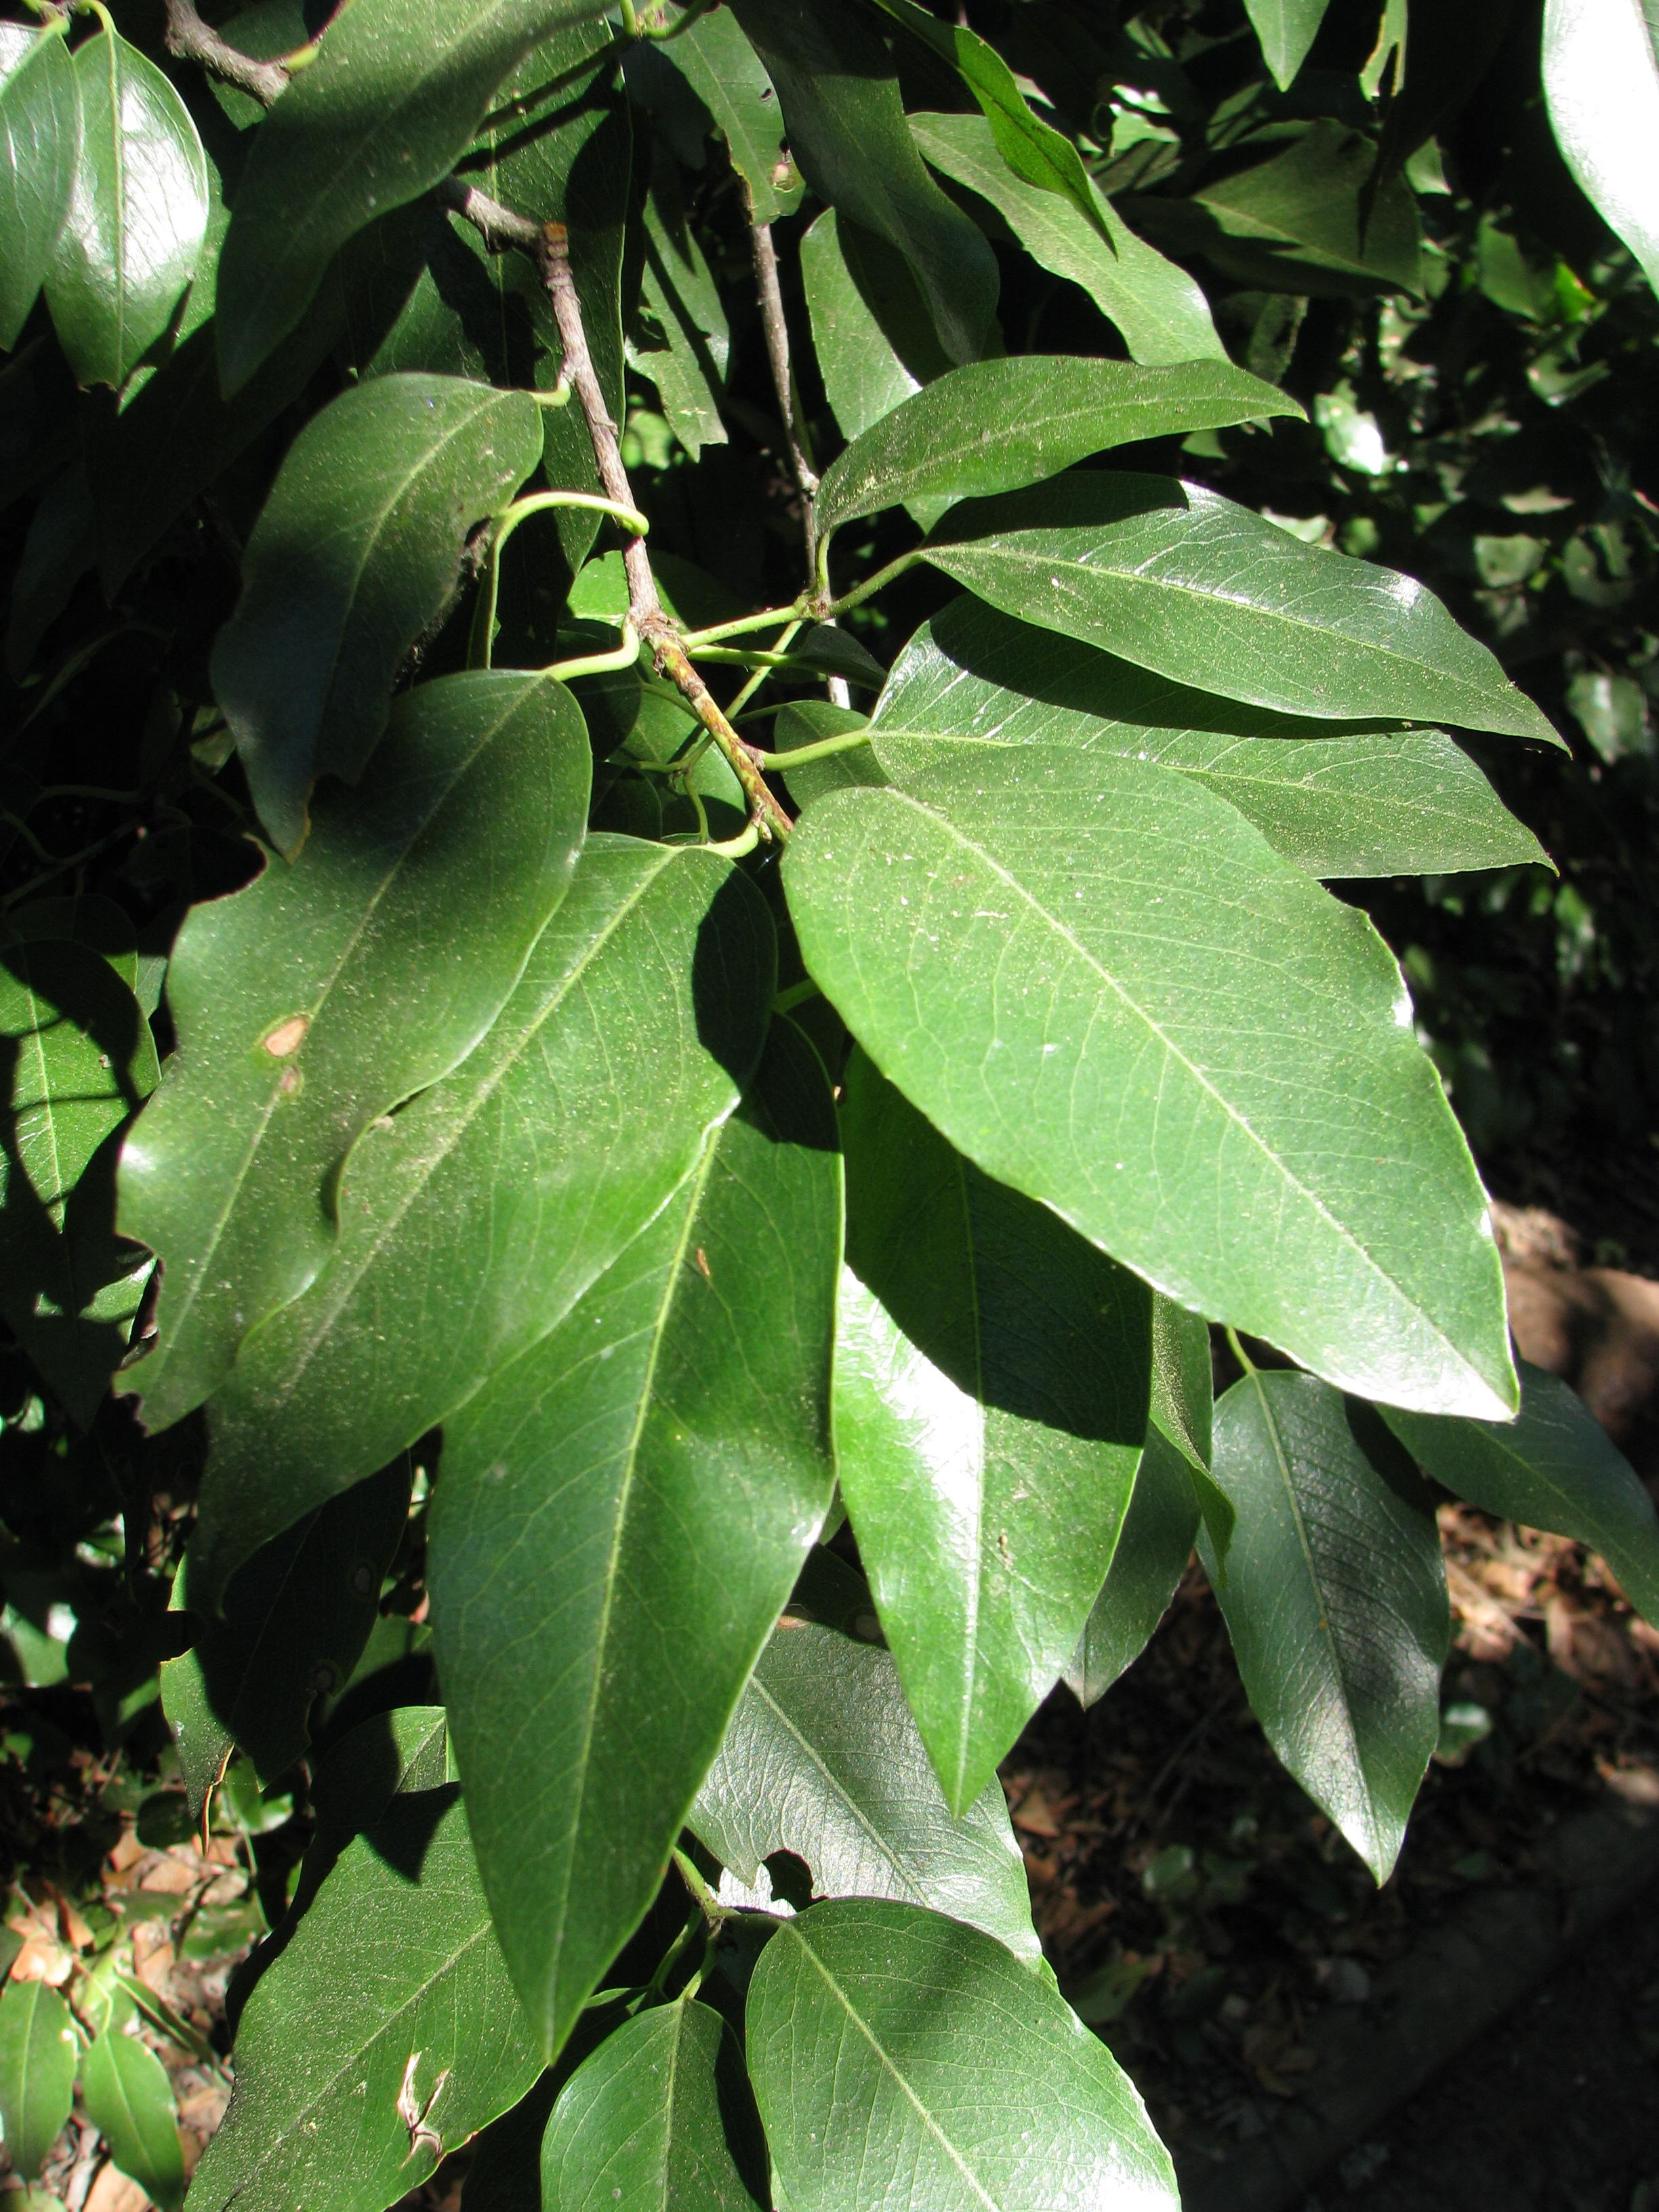Cherry leaf: (782, 712, 1549, 1458), (441, 956, 854, 2057), (103, 664, 596, 1433), (906, 446, 1614, 831), (195, 352, 650, 890), (720, 1893, 1187, 2212), (789, 348, 1422, 573)
